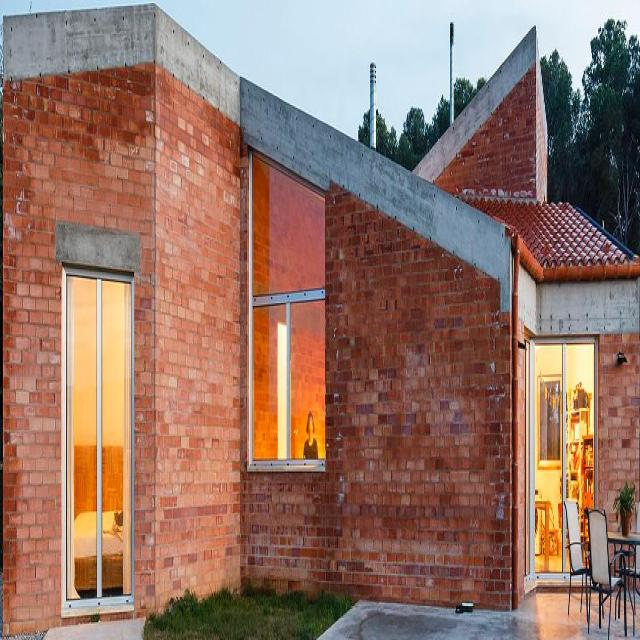door: (62, 267, 135, 612), (531, 336, 600, 583)
plant: (541, 14, 639, 256), (358, 77, 486, 174)
wall: (5, 5, 639, 638)
windows: (249, 141, 326, 470)
